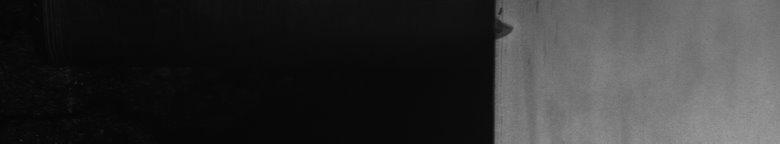hb: (504, 4, 539, 65)
